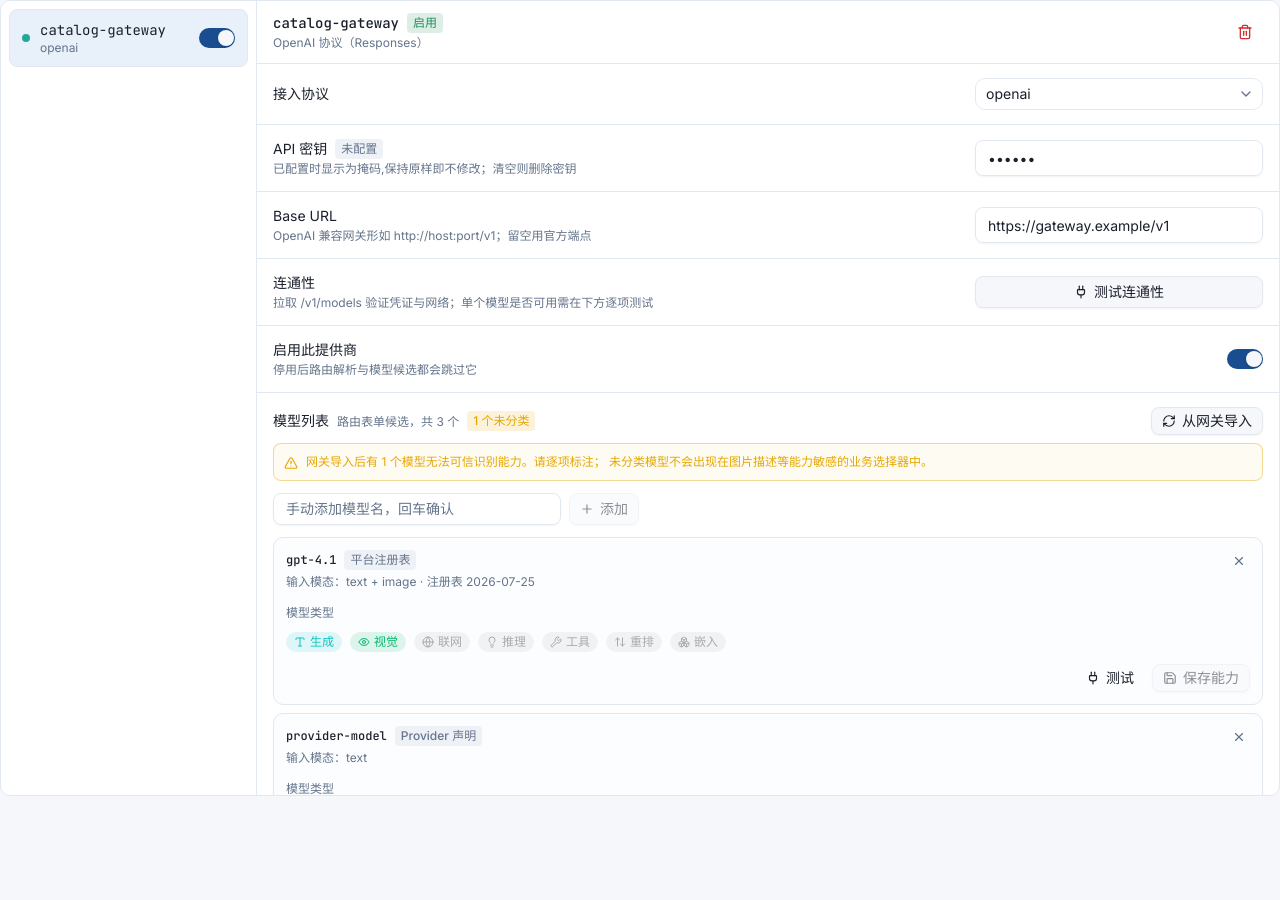
Test: AdminProvidersPage model capabilities › a failed model check surfaces the sanitized code as actionable text
The image size is (1280, 900).
Click the button "测试": (1110, 678) [1076,664,1144,692]
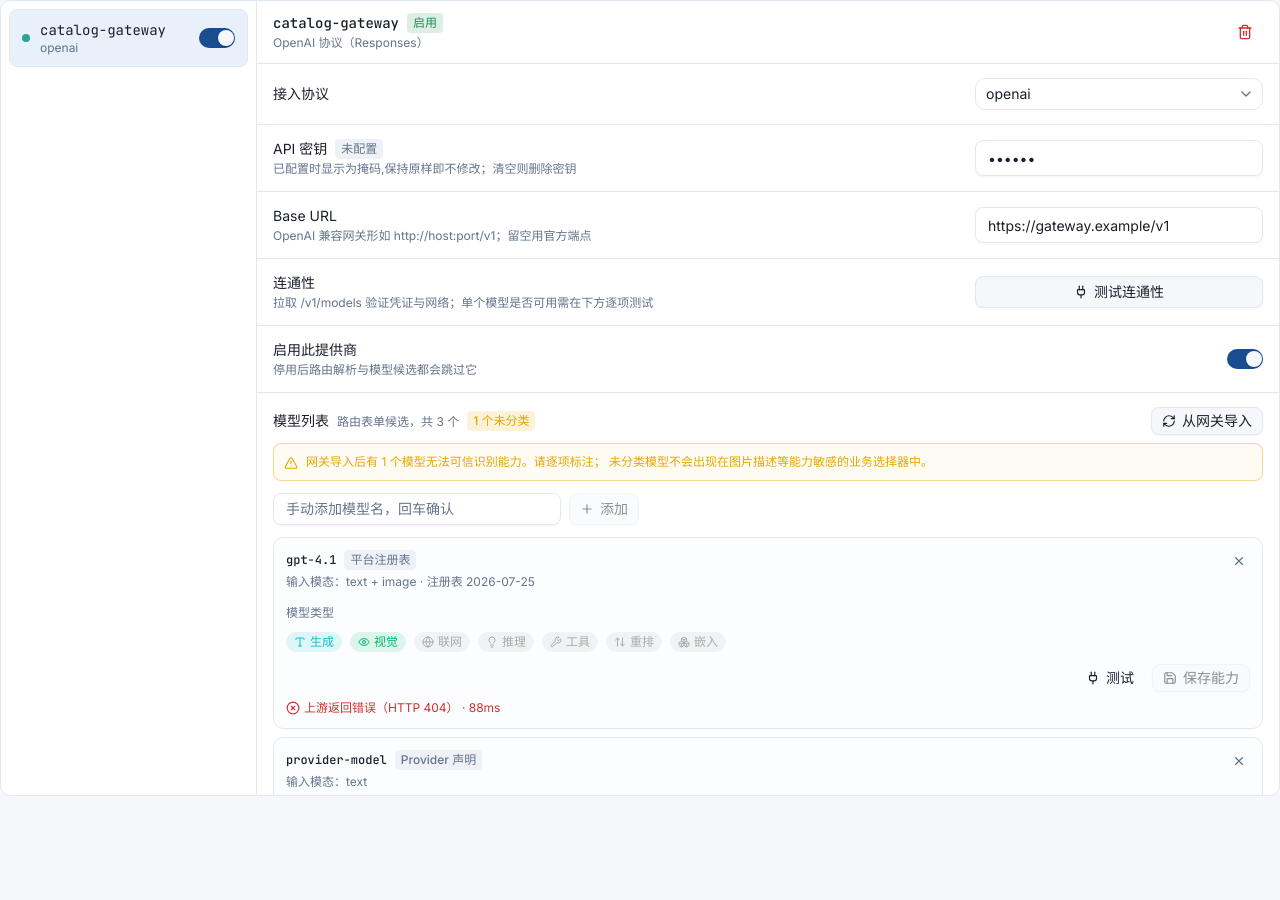
Check: the text "上游返回错误（HTTP 404） · 88ms" is shown, box [286,700,500,715]
